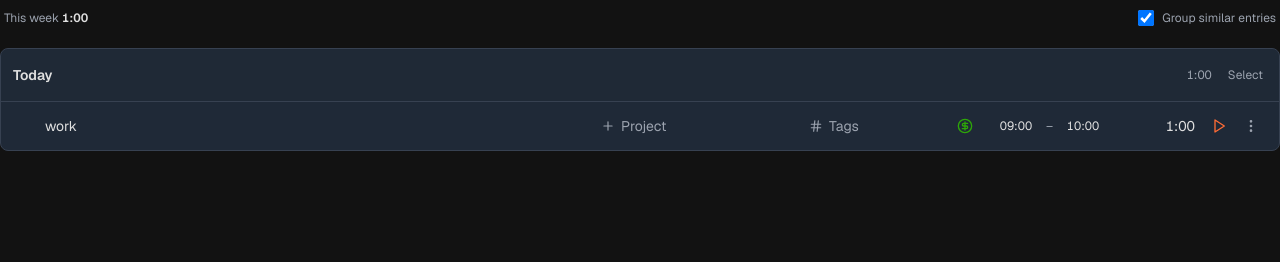
it: the picker itself › its panel is not rendered inside the day card, which clips overflow
The image size is (1280, 262).
Click the button "Tags" at (871, 126), box x1=801 y1=110 x2=941 y2=142
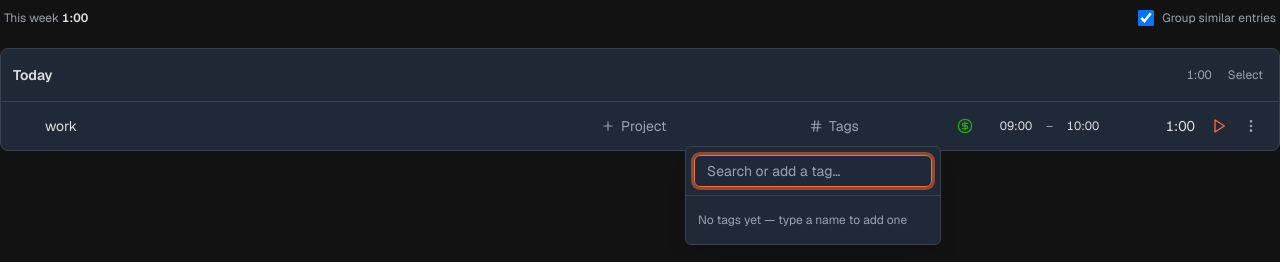
Check: the element with placeholder "Search or add a tag" is shown, box x1=685 y1=146 x2=941 y2=245
